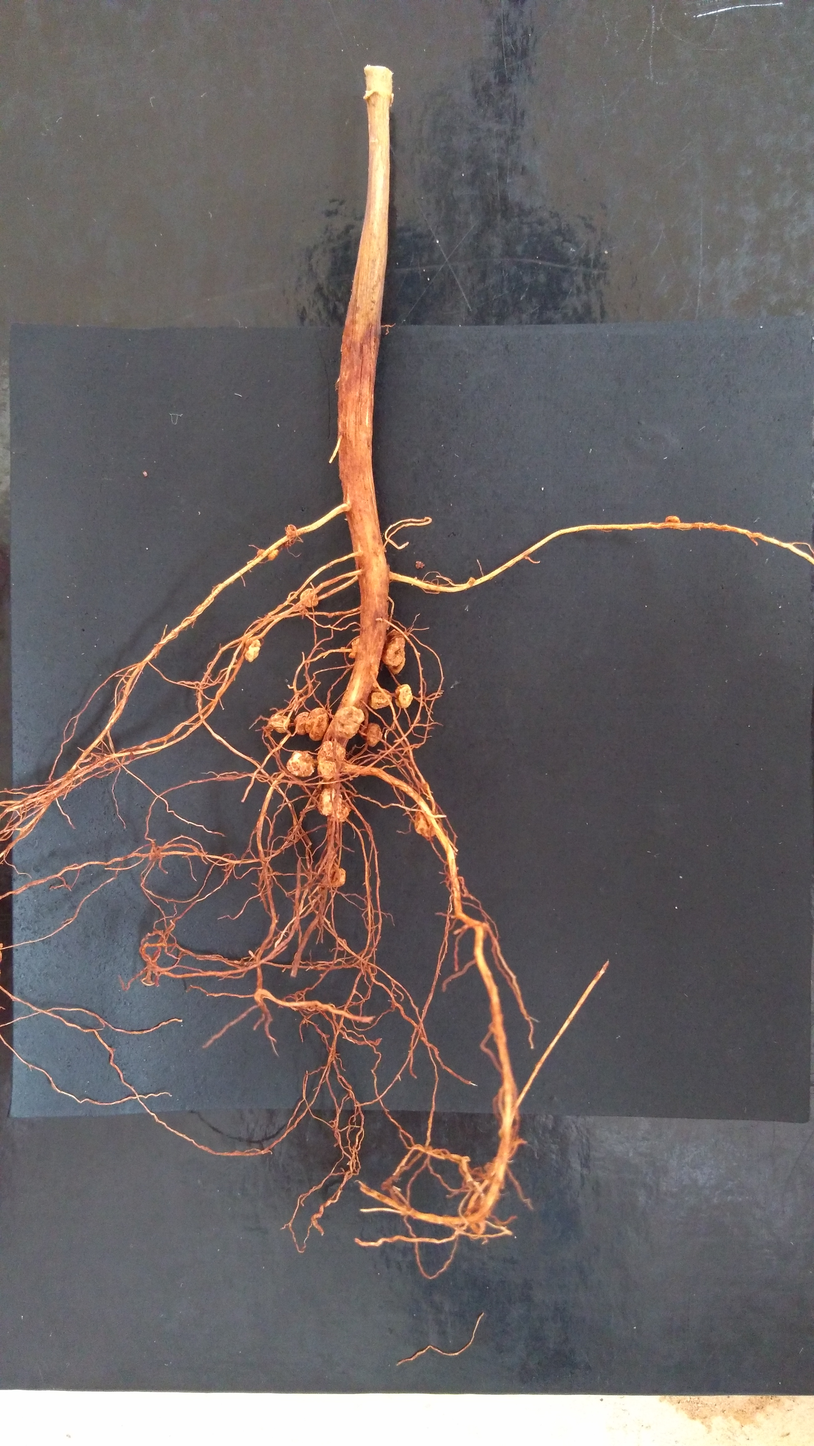nodule: (317, 739, 346, 781), (333, 705, 365, 739), (413, 804, 443, 838), (382, 627, 405, 666), (305, 707, 330, 742), (286, 750, 315, 778), (317, 787, 337, 816), (360, 722, 383, 747), (332, 792, 350, 823), (368, 688, 392, 709), (268, 714, 292, 734), (394, 683, 413, 708), (243, 637, 261, 663), (326, 865, 346, 888), (293, 711, 310, 736), (300, 588, 319, 607), (388, 655, 406, 674), (285, 524, 298, 546), (348, 637, 360, 659), (267, 549, 280, 560), (665, 515, 680, 524), (415, 561, 425, 569), (257, 548, 265, 556), (371, 681, 379, 688), (467, 577, 476, 583), (414, 651, 421, 658), (340, 646, 346, 650)
